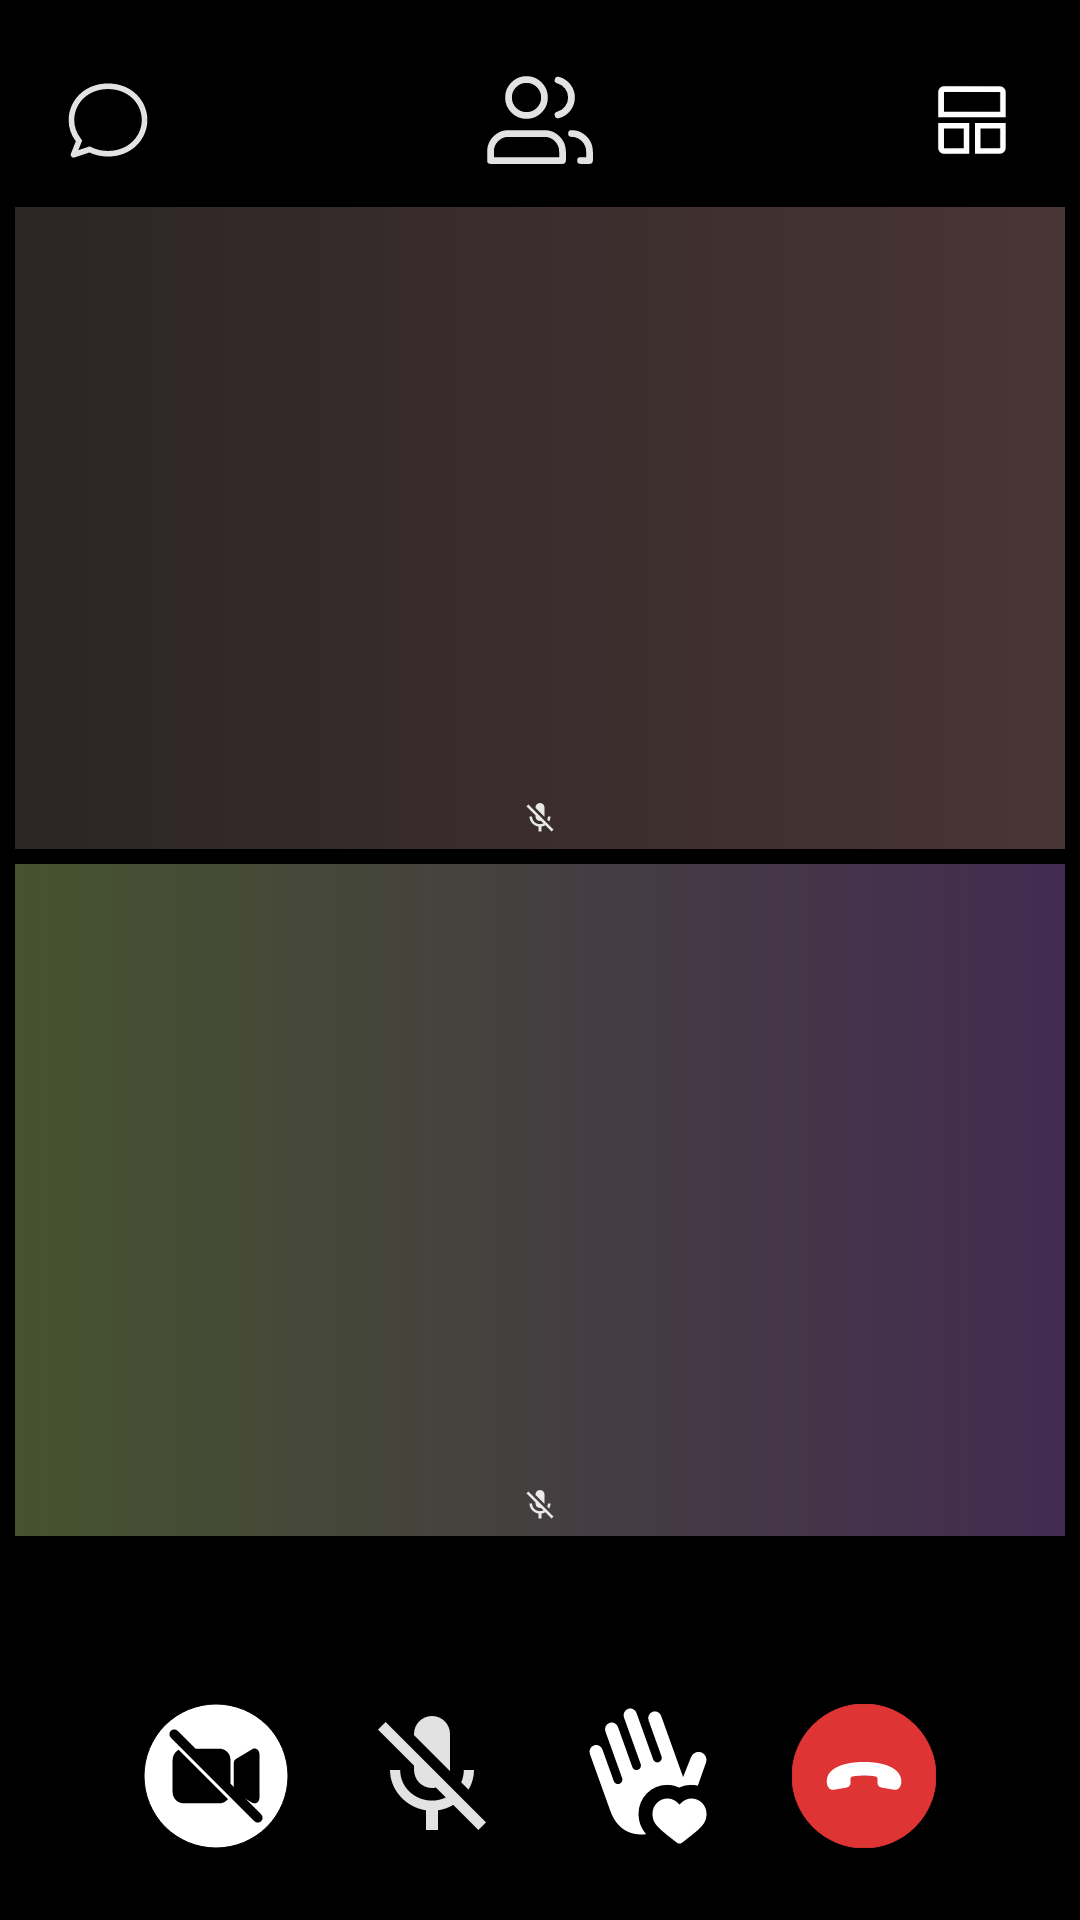

Where to tap for icons on this 1080w x 1920h app screen, as point (x, y):
Open Contacts Button: point (540, 120)
Open System Messages App Button: point (108, 120)
Say Hi: point (648, 1776)
Turn Camera Off or On: point (216, 1776)
Turn Microphone Off or On: point (432, 1773)
